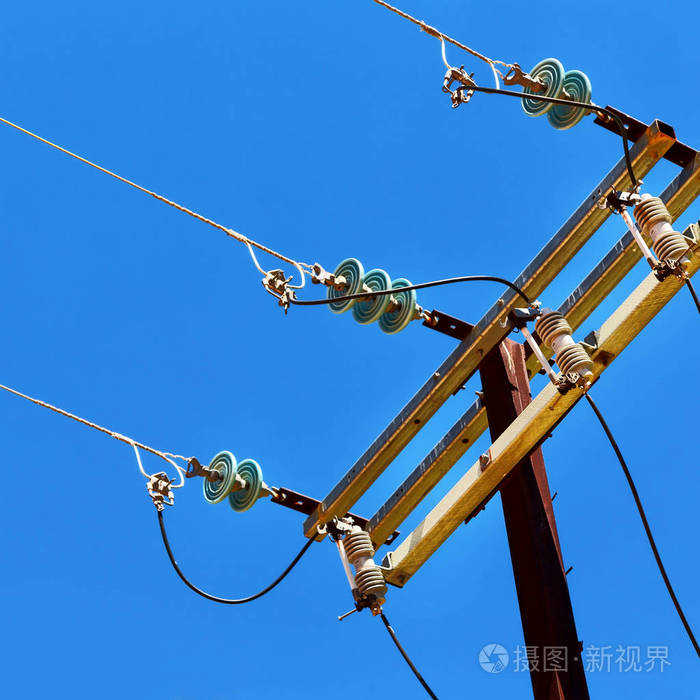insulator: (324, 257, 417, 335), (519, 55, 592, 131), (198, 451, 263, 515)
